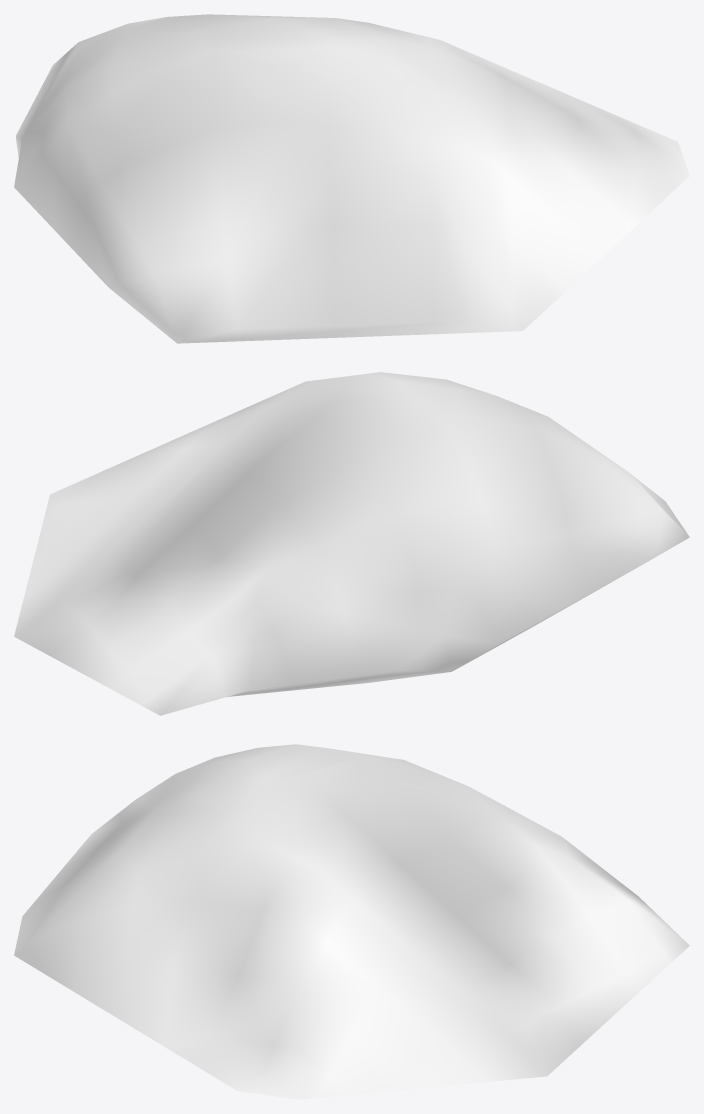
Rendered from rock_small_1.glb.
3 views of the same model, one above another, from view 1: azimuth 30°, elevation 25°; view 2: azimuth 150°, elevation 25°; view 3: azimuth 270°, elevation 25° (orthographic). The views are drawn at different scales.
Parts seen in each view (by area): view 1: rock_small_1; view 2: rock_small_1; view 3: rock_small_1.
Part boxes in pixels (x1=…): rock_small_1: x1=14, y1=14, x2=689, y2=343; rock_small_1: x1=14, y1=372, x2=689, y2=715; rock_small_1: x1=14, y1=744, x2=689, y2=1099.
Bounding box in the file's own units: 0.1933 × 0.0682 × 0.2153.
Materials: 1 (1 with a texture image).
